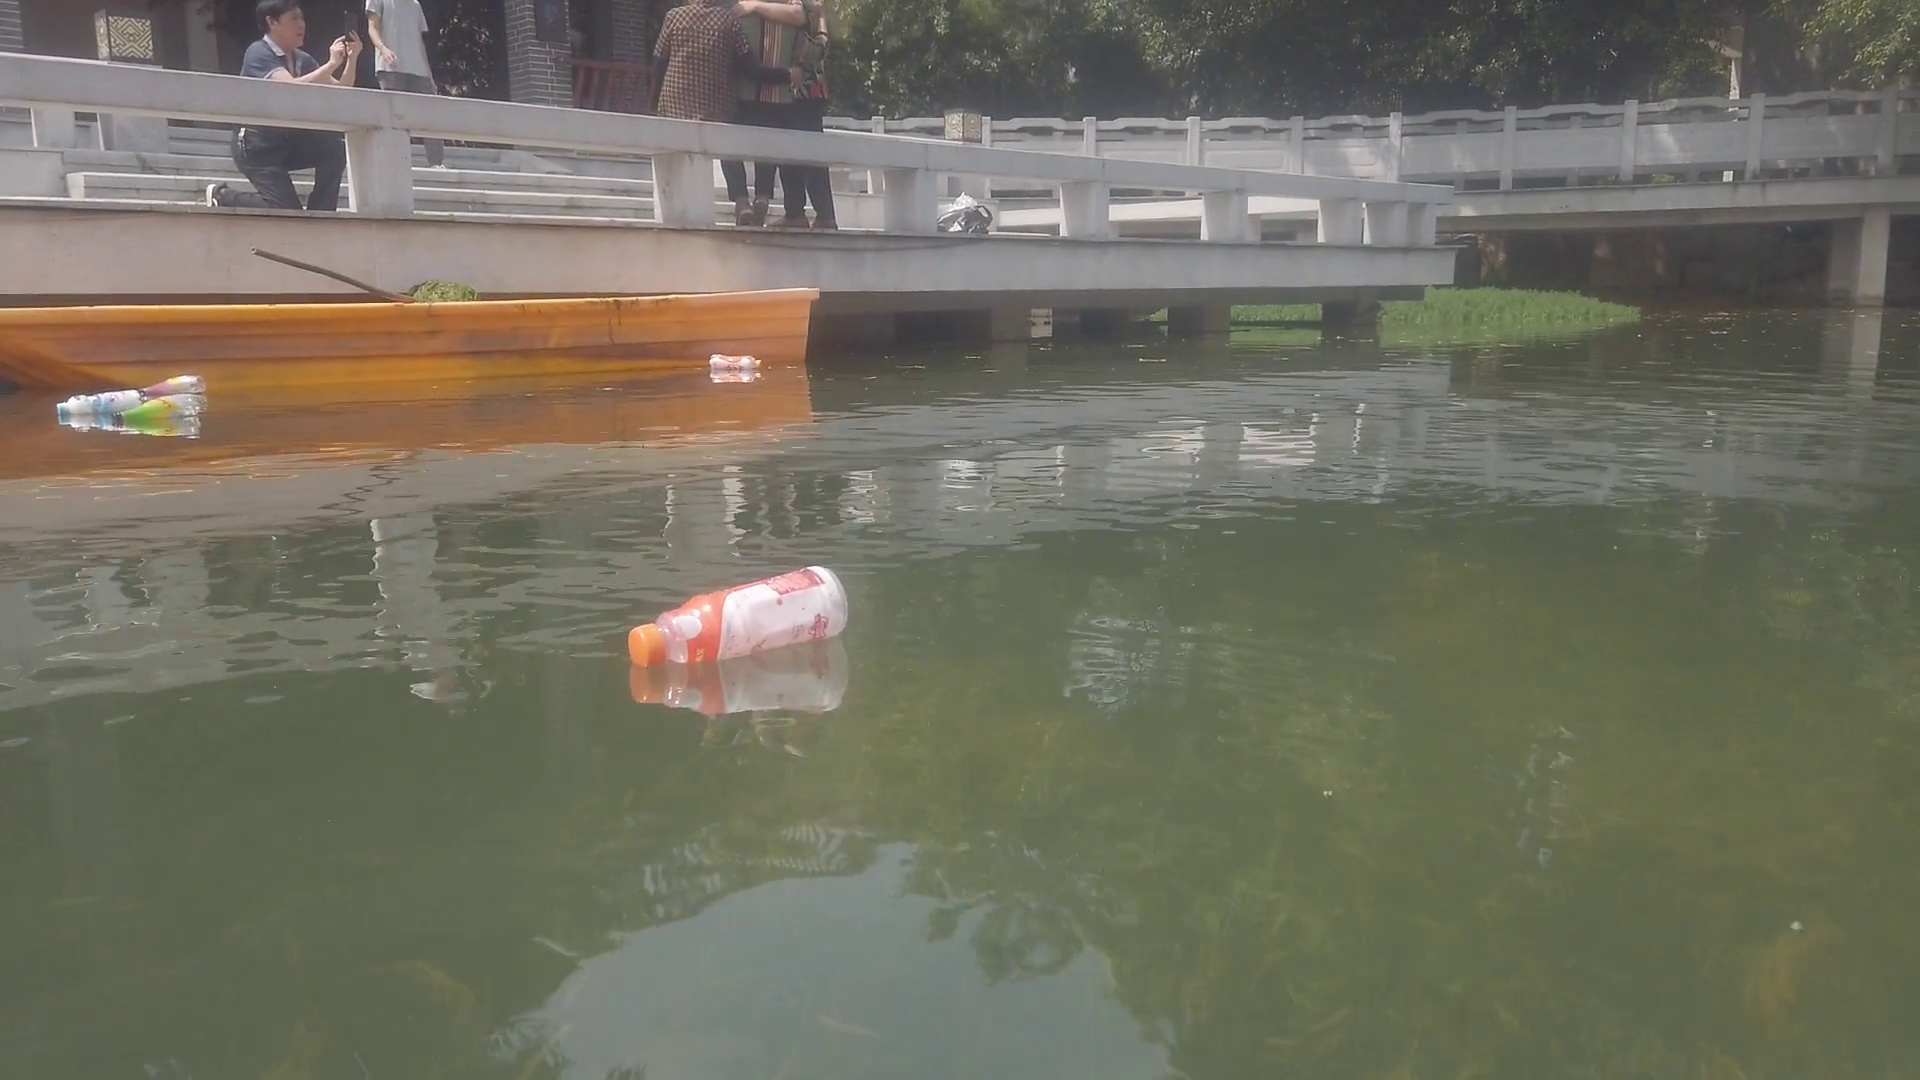bottle: (626, 564, 849, 665), (51, 386, 146, 419), (115, 397, 199, 426), (136, 378, 206, 392), (708, 353, 760, 371)
